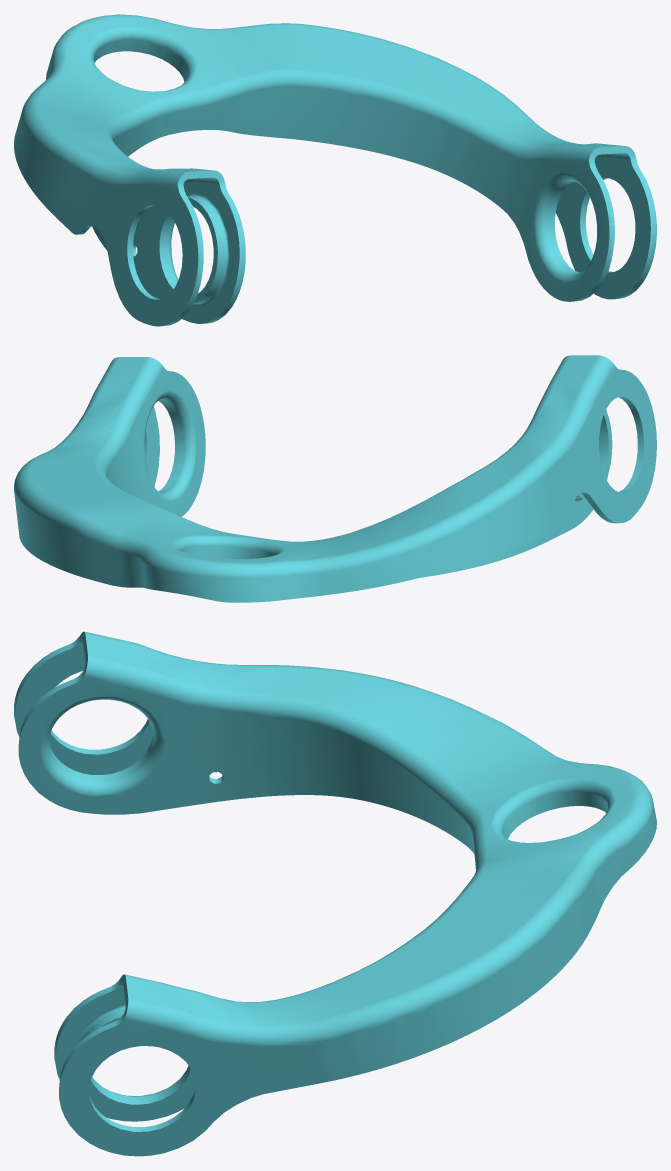
Rendered from Camshaft_Position.gltf.
3 renders of one model, top to bottom at view 1: azimuth 30°, elevation 25°; view 2: azimuth 150°, elevation 25°; view 3: azimuth 270°, elevation 25°, orthographic. The views are drawn at different scales.
Visible parts, largest first — view 1: Camshaft_Position; view 2: Camshaft_Position; view 3: Camshaft_Position.
Boxes of the visible parts, x1,y1,x2,y2 form: Camshaft_Position: [14, 14, 656, 326]; Camshaft_Position: [14, 355, 656, 602]; Camshaft_Position: [14, 631, 656, 1156].
Bounding box in the file's own units: 0.3187 × 0.1483 × 0.3081.
